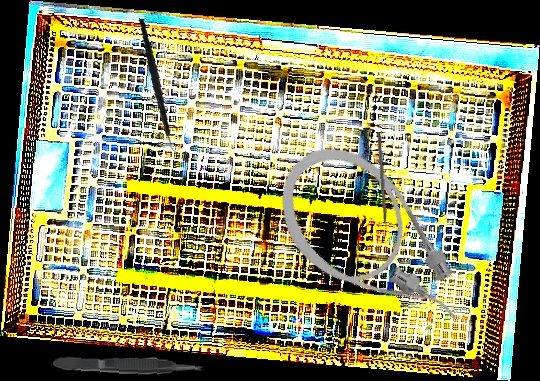Cannula: (253, 121, 486, 368)
Chopper: (122, 18, 198, 155)
Hook Surgical: (376, 131, 389, 242)
Tissue Forceps: (52, 352, 205, 379)
